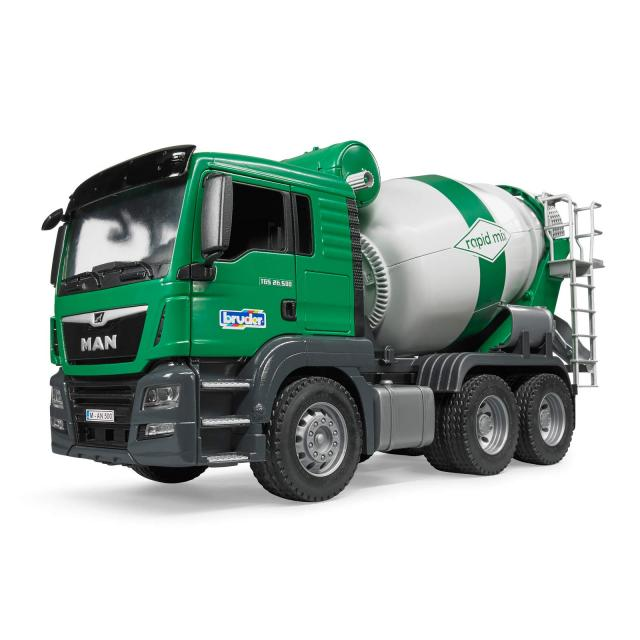Mixer Truck: (50, 139, 603, 502)
